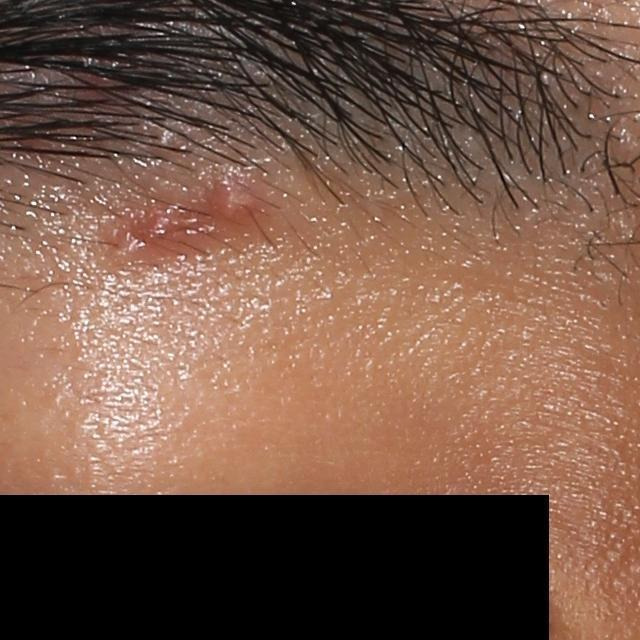pustule: (100, 198, 210, 266), (217, 176, 260, 229)
